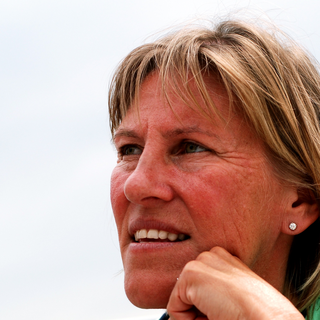eye: (164, 138, 216, 161), (111, 139, 147, 162)
